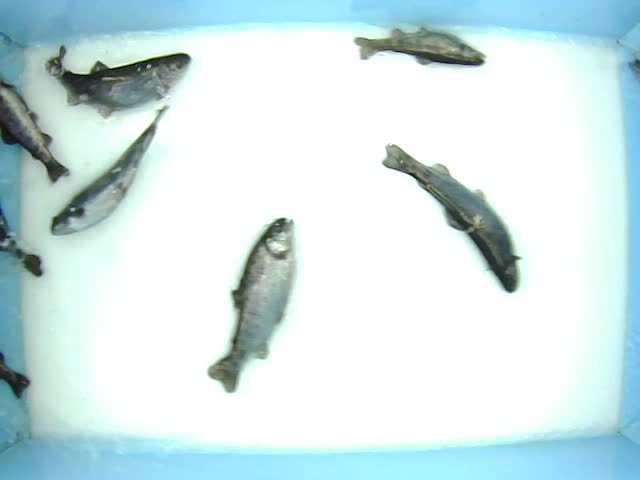fish: (375, 138, 522, 295), (195, 209, 302, 401), (47, 108, 175, 240), (41, 43, 217, 112), (352, 16, 495, 80)
